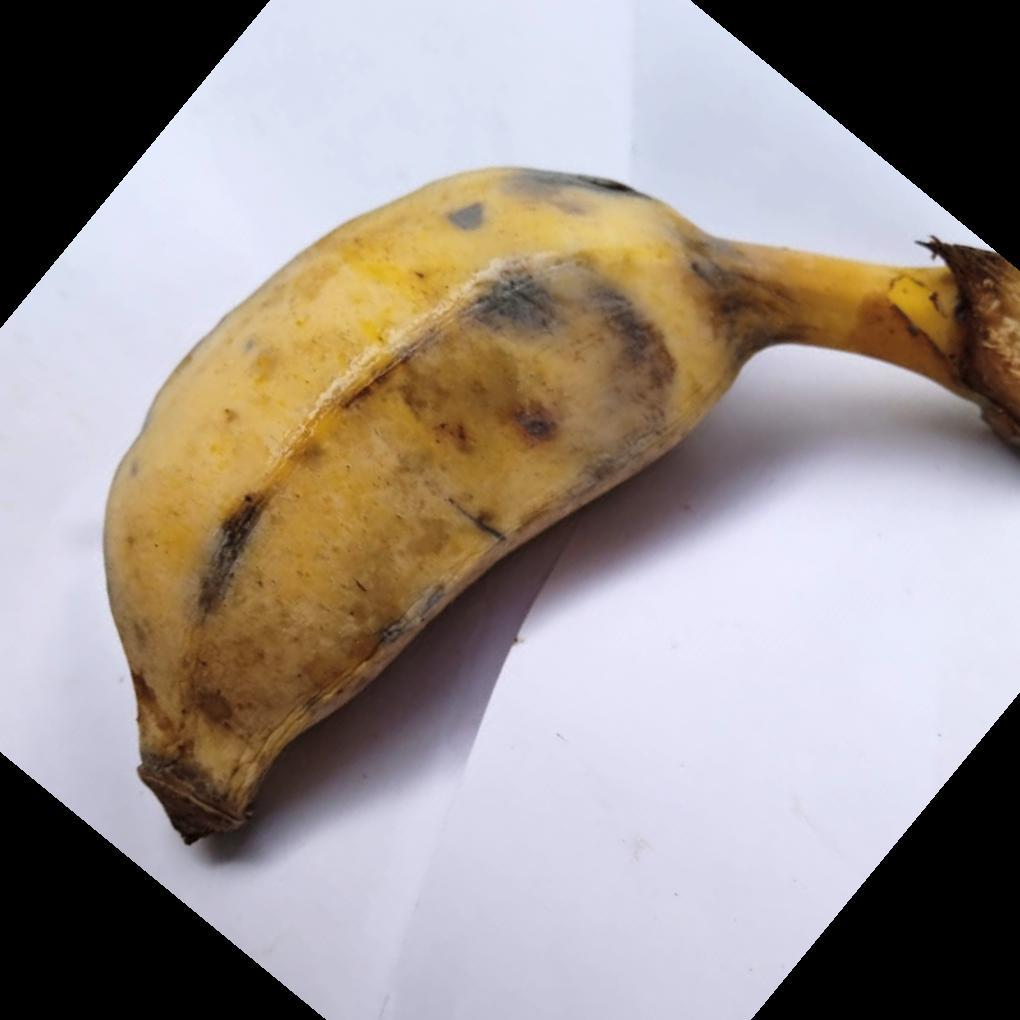Banana Ripe: (106, 166, 1020, 833)
